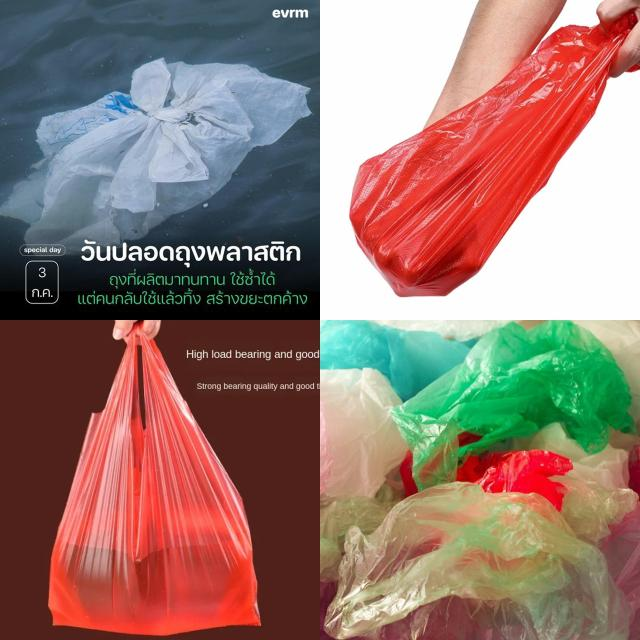Single-layer Plastic: (350, 15, 635, 296), (49, 322, 260, 634), (0, 59, 310, 247), (325, 482, 629, 640), (392, 321, 634, 489), (511, 422, 636, 544), (320, 320, 476, 401), (320, 368, 408, 500), (458, 450, 572, 511)
